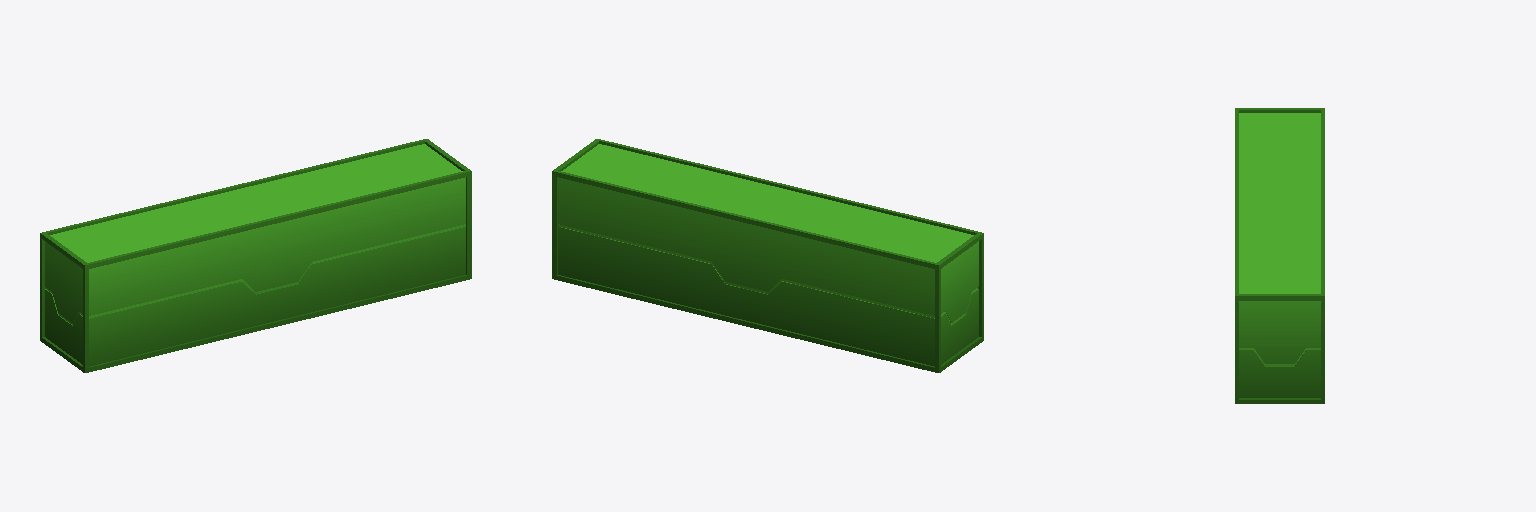
3 views of the same model, side by side, from view 1: azimuth 30°, elevation 25°; view 2: azimuth 150°, elevation 25°; view 3: azimuth 270°, elevation 25° (orthographic).
Parts seen in each view (by area): view 1: Crate.004; view 2: Crate.004; view 3: Crate.004.
Part boxes in pixels (bbox=[...]): Crate.004: bbox=[40, 139, 471, 372]; Crate.004: bbox=[552, 139, 983, 372]; Crate.004: bbox=[1235, 108, 1324, 403].
Bounding box in the file's own units: 22.5 × 6 × 4.5.
Materials: 1 (1 with a texture image).